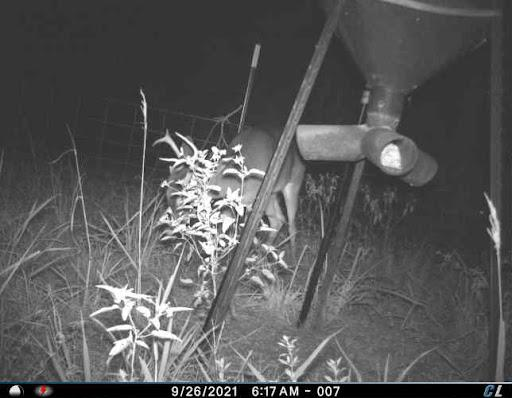Deer: (152, 117, 311, 275)
